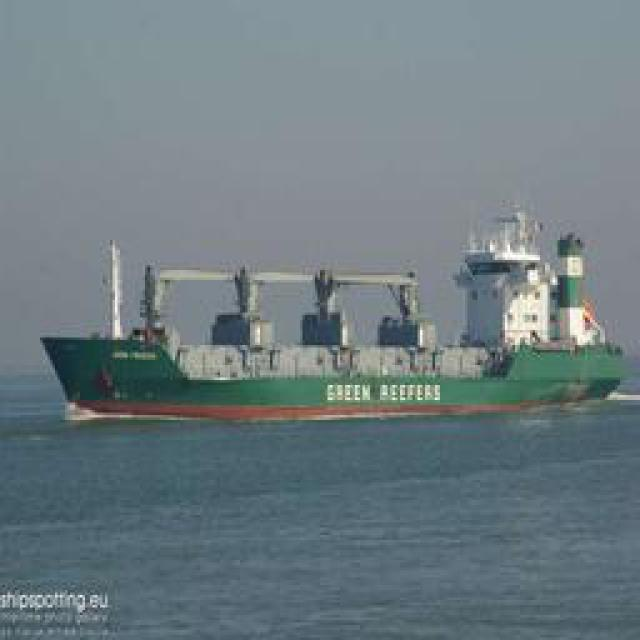Ship: (32, 243, 630, 421)
